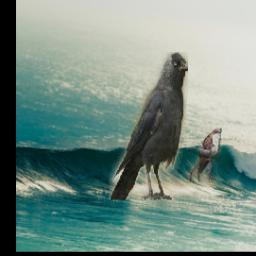Crow: (109, 53, 188, 201)
Cuckoo: (184, 130, 222, 184)
